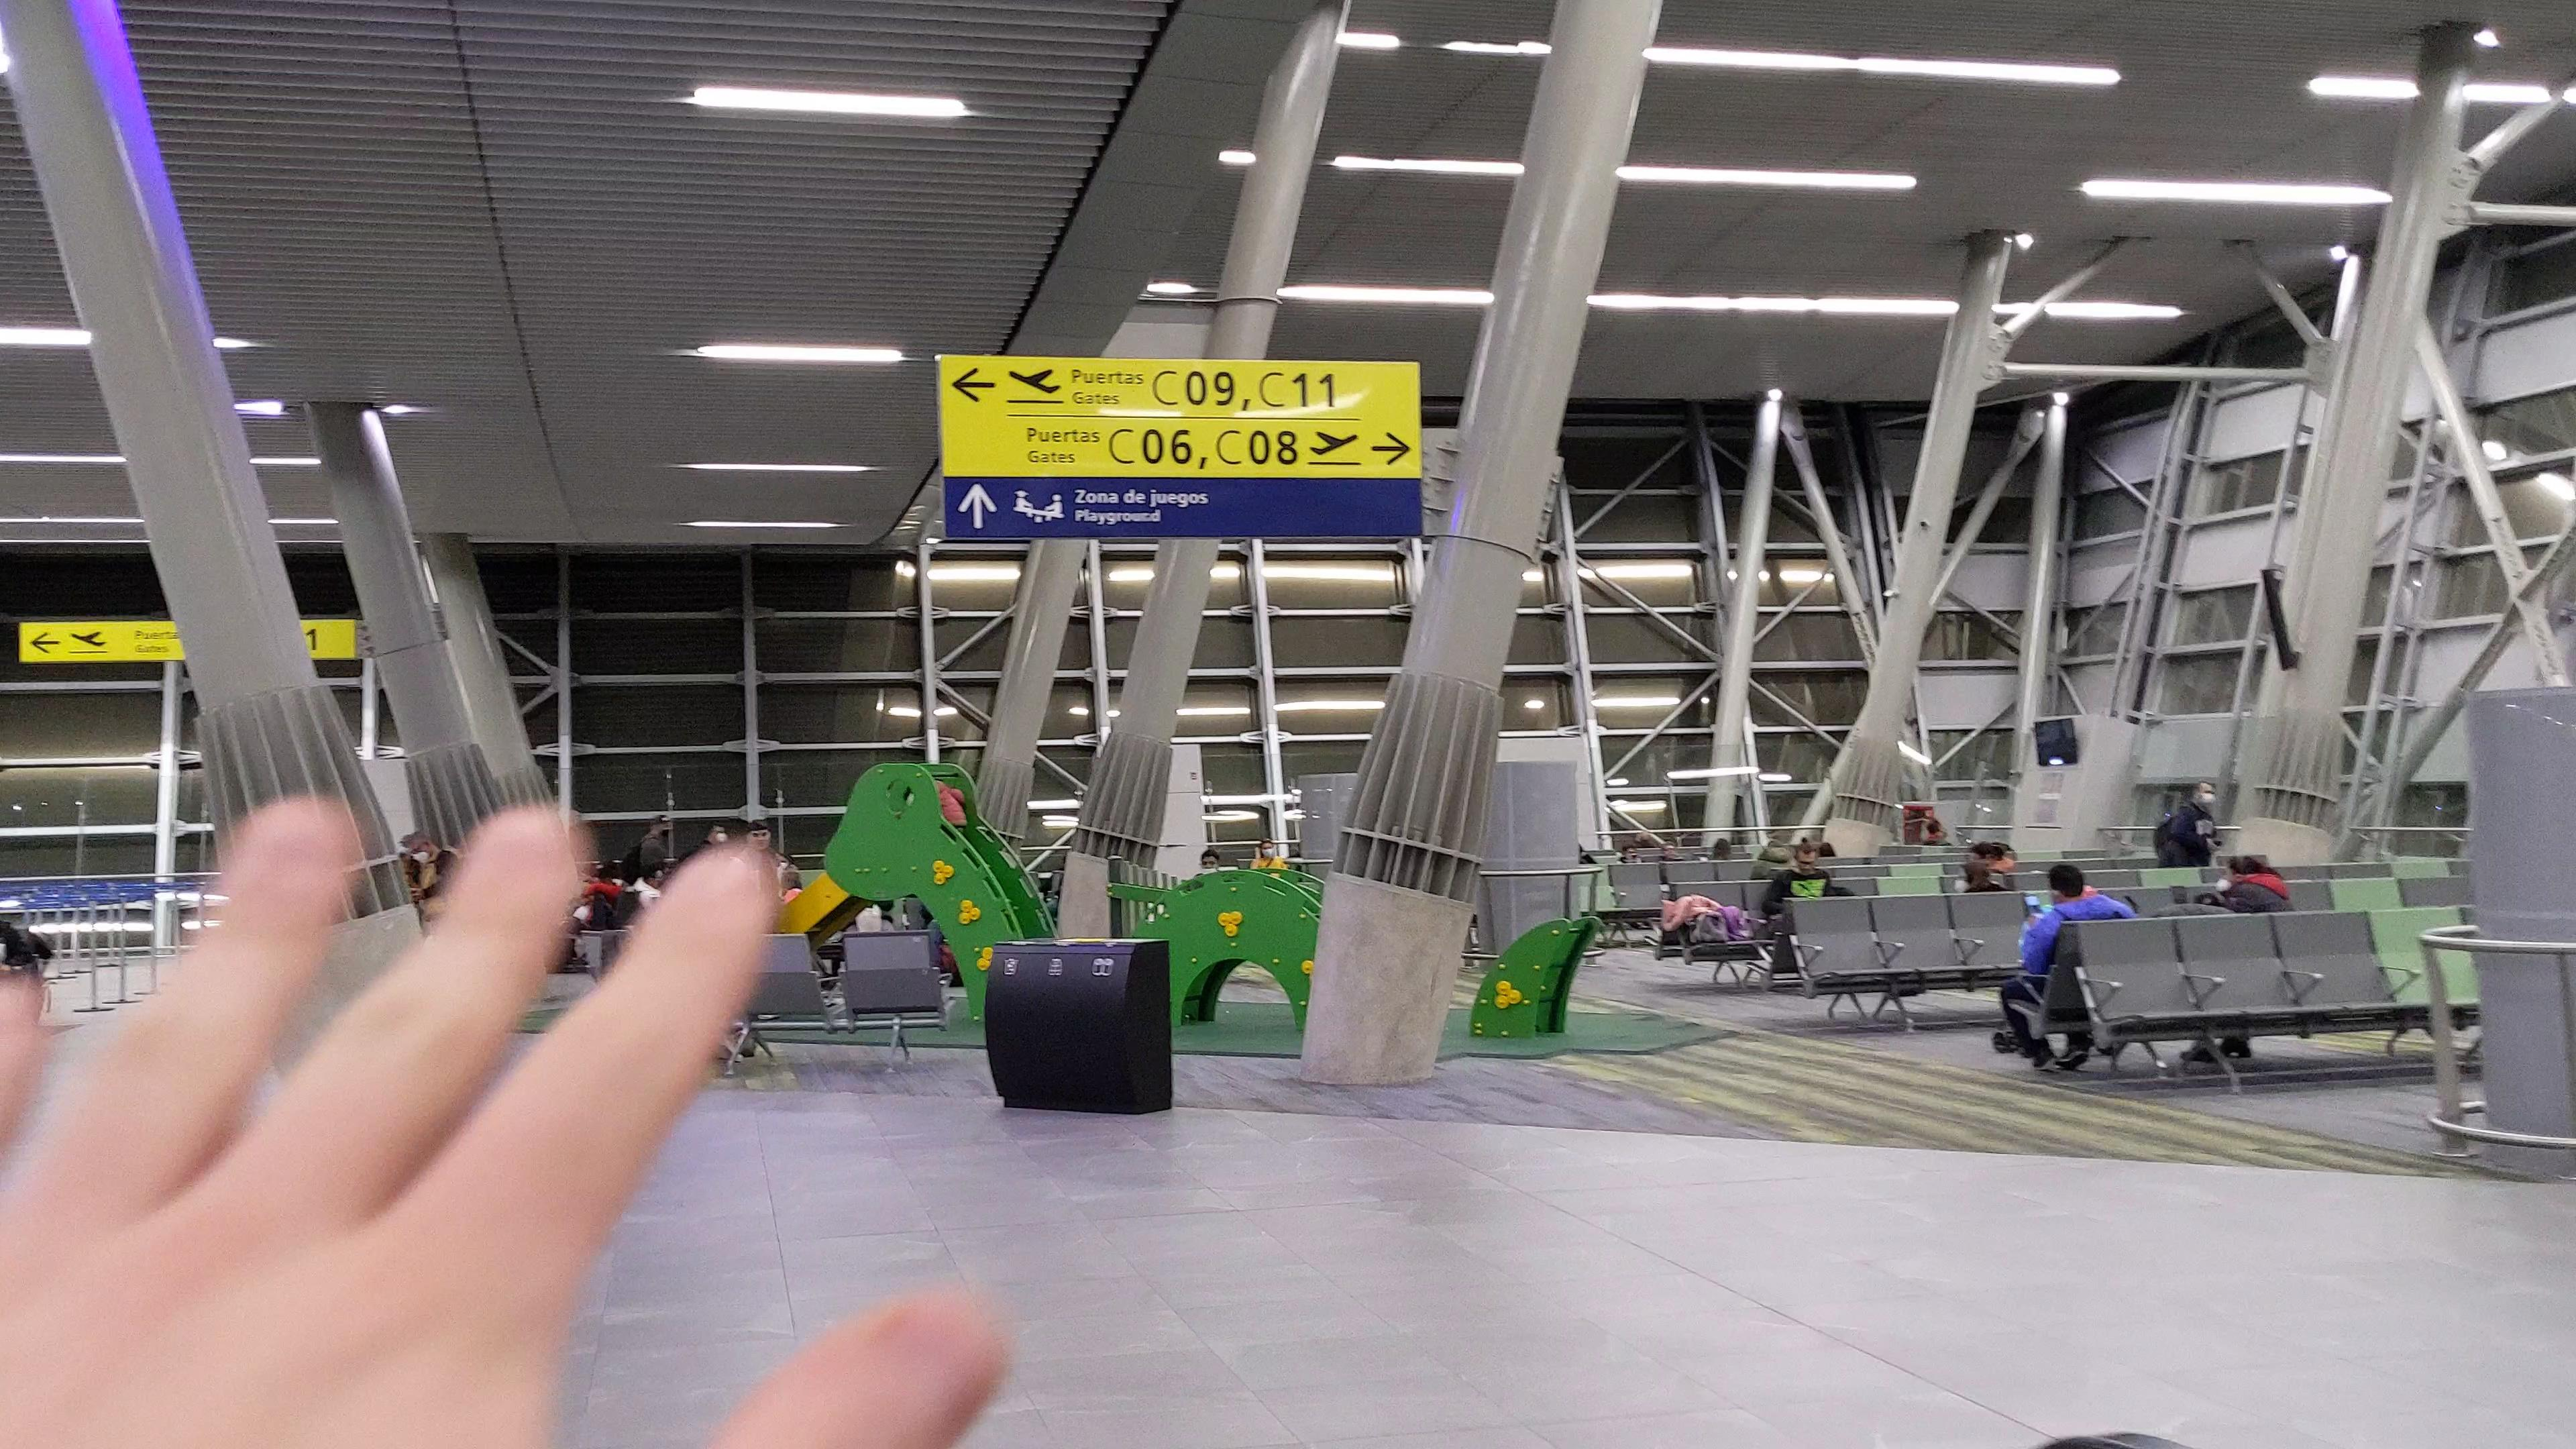airplane symbol: (1306, 426, 1361, 458), (1008, 366, 1062, 396), (69, 626, 106, 648)
thin left arrow: (948, 364, 1001, 405), (27, 630, 64, 656)
thin right arrow: (1368, 426, 1414, 469)
thin up arrow: (954, 483, 998, 534)
